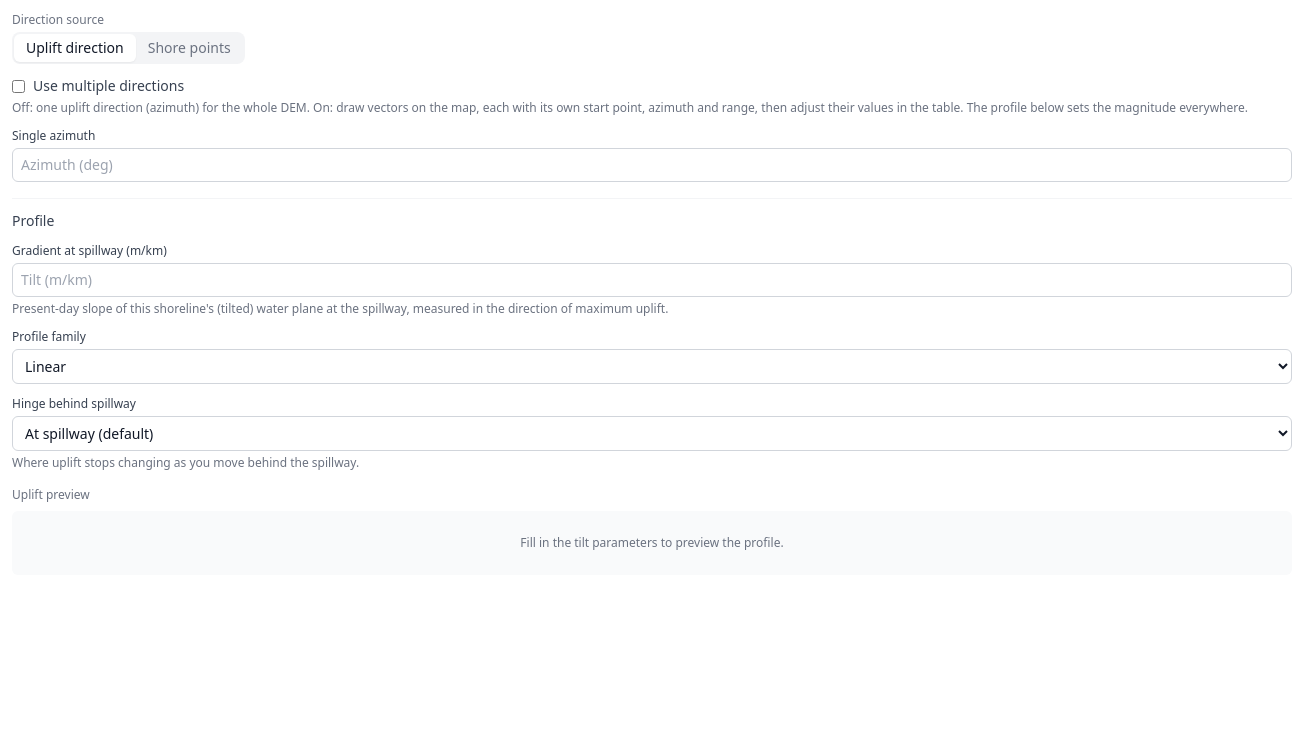
Test: TiltModelBody › numeric fields are text inputs that accept exponent notation and flag junk
Select "Quadratic" in the dropdown labelled "Profile family" at (652, 366), box [12,349,1292,384]
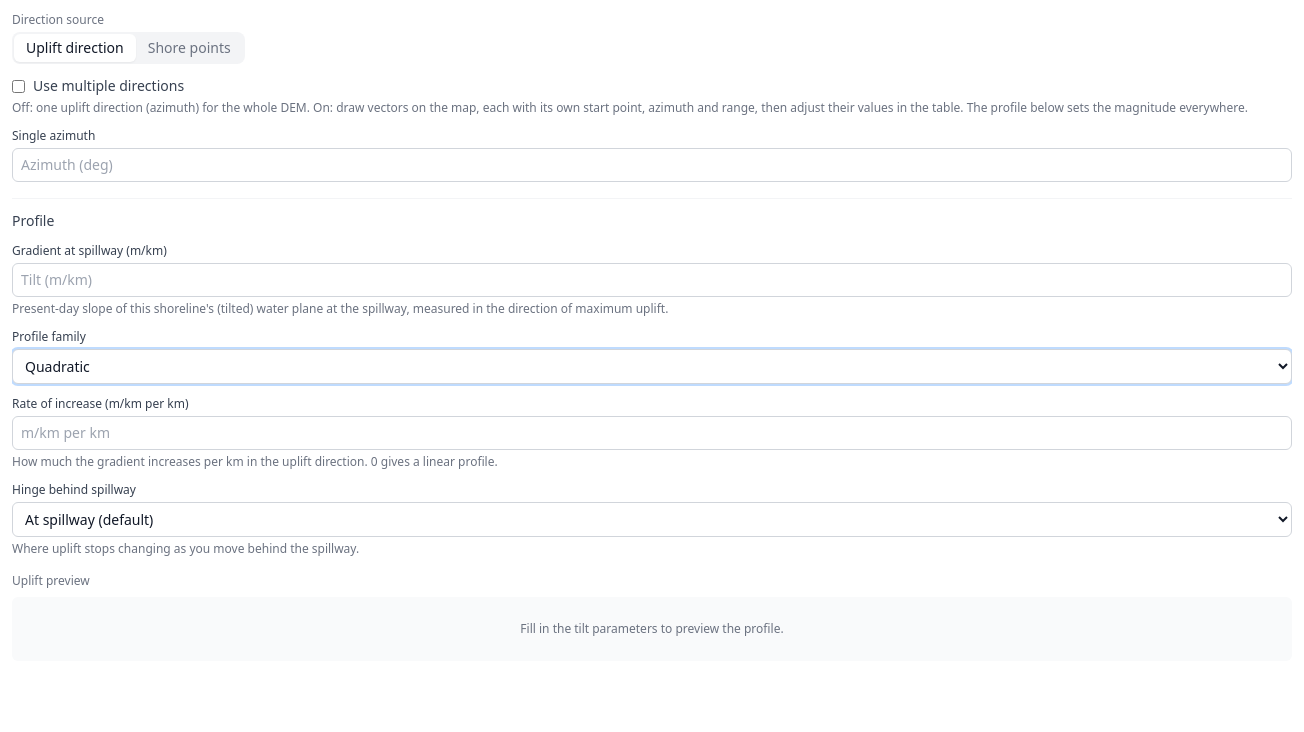
Type "4e-3" into the field labelled "Rate of increase (m/km per km)" at (652, 433), box [12,416,1292,450]
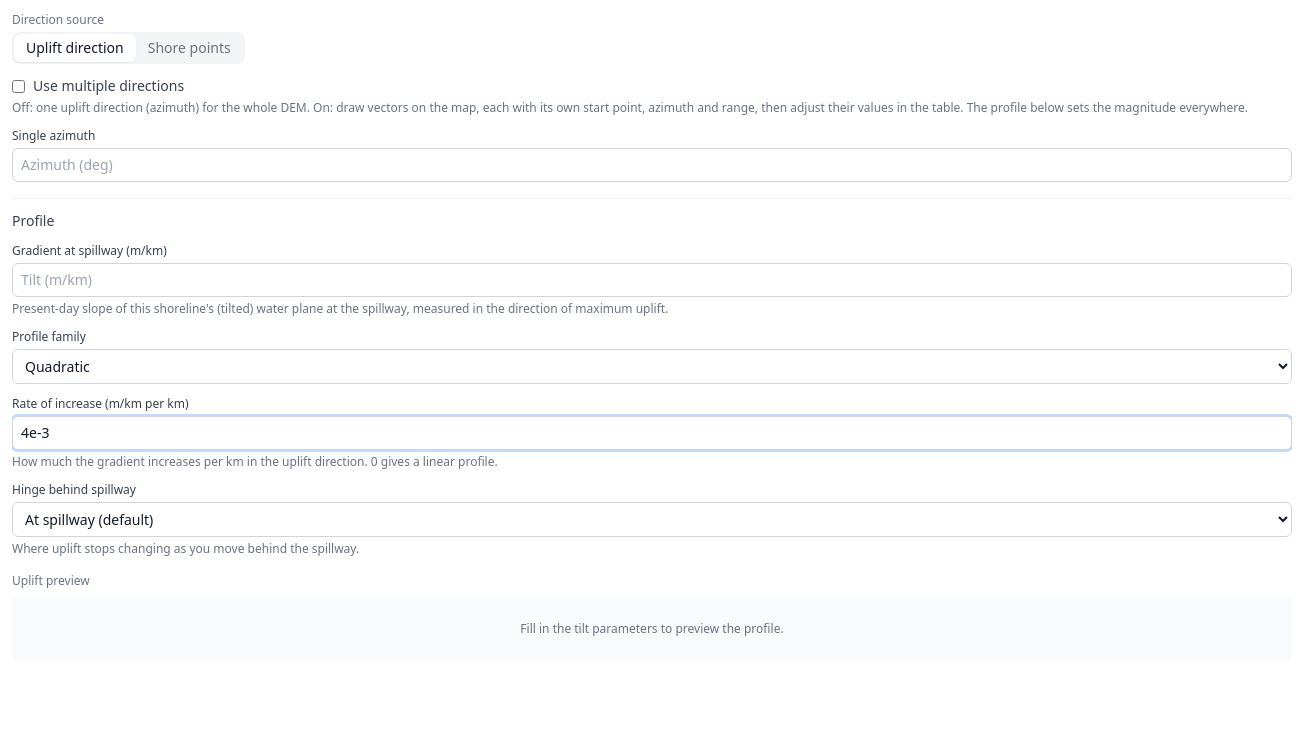
Result: the field labelled "Rate of increase (m/km per km)" has class "border-green-500"
Replace the text in the field labelled "Rate of increase (m/km per km)" with "abc" at (652, 433), box [12,416,1292,450]
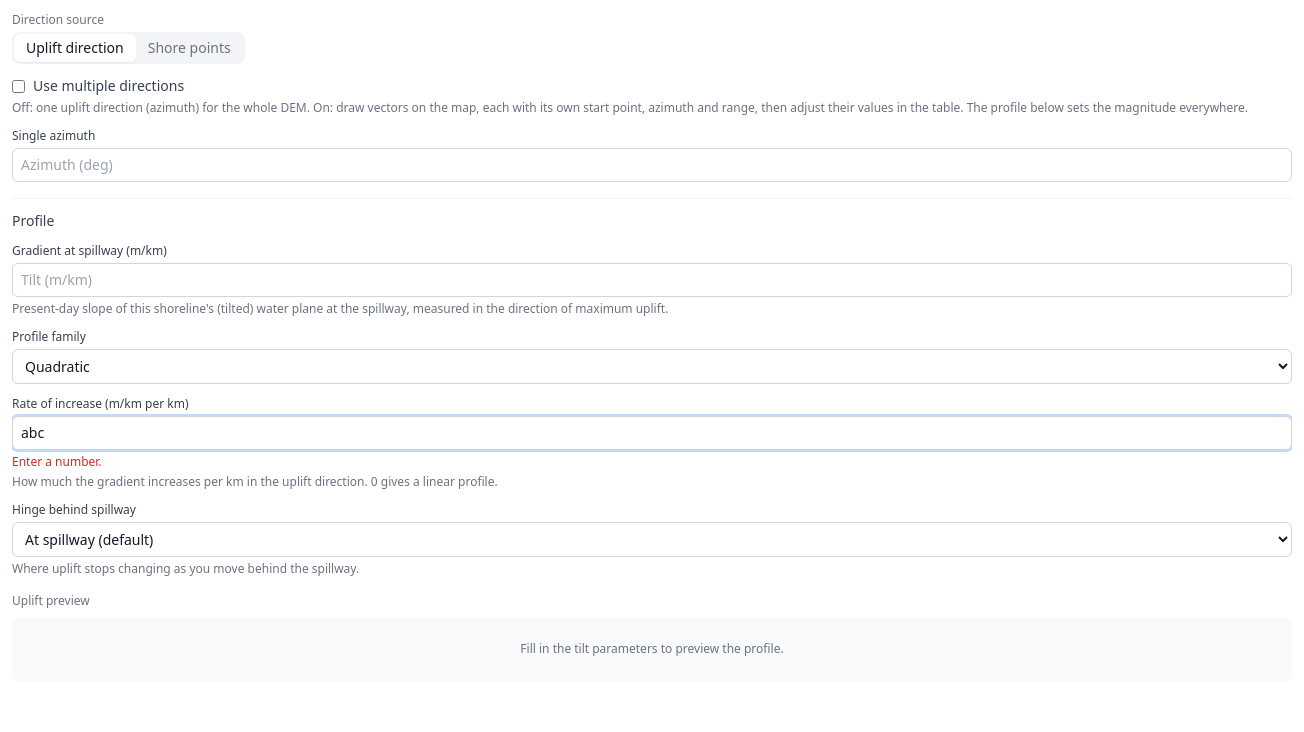
Result: the text "Enter a number." is shown at [12,453,102,470]
